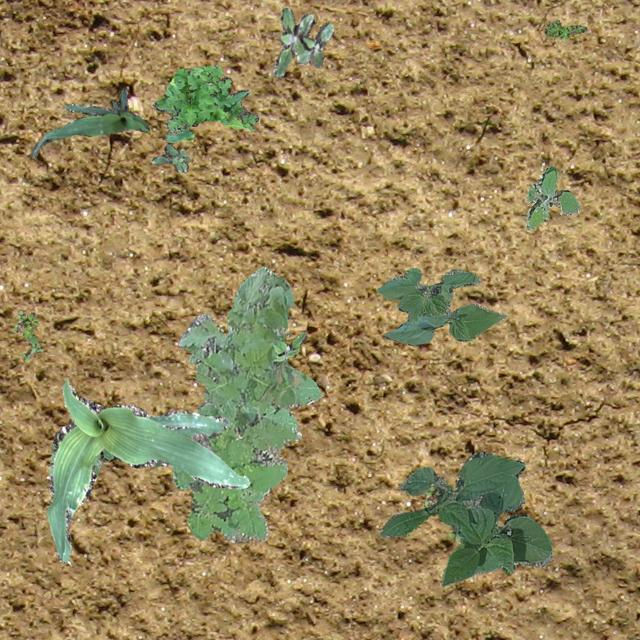crop: (45, 378, 248, 564), (379, 452, 551, 586), (376, 266, 506, 344), (30, 86, 148, 158)
weed: (172, 266, 321, 542), (152, 64, 258, 142), (272, 6, 332, 76), (524, 166, 580, 230), (422, 484, 458, 540), (12, 310, 42, 360), (150, 144, 190, 172), (270, 332, 306, 359), (544, 18, 586, 38)
